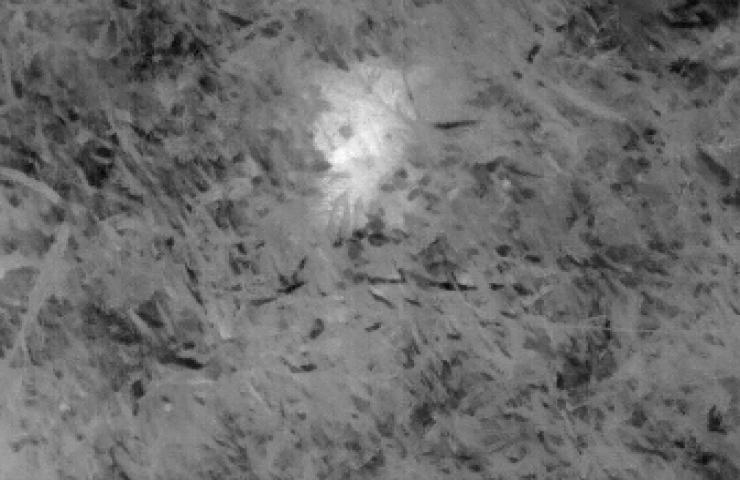landmines: (307, 84, 415, 191)
